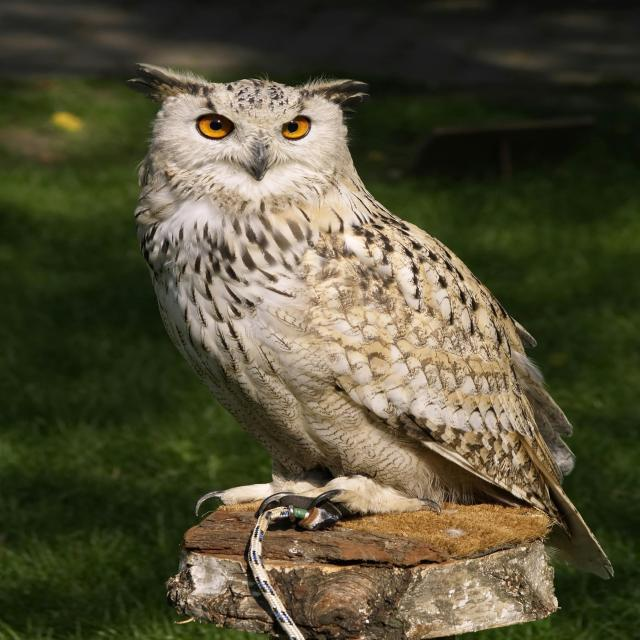Owl: (121, 46, 603, 565)
